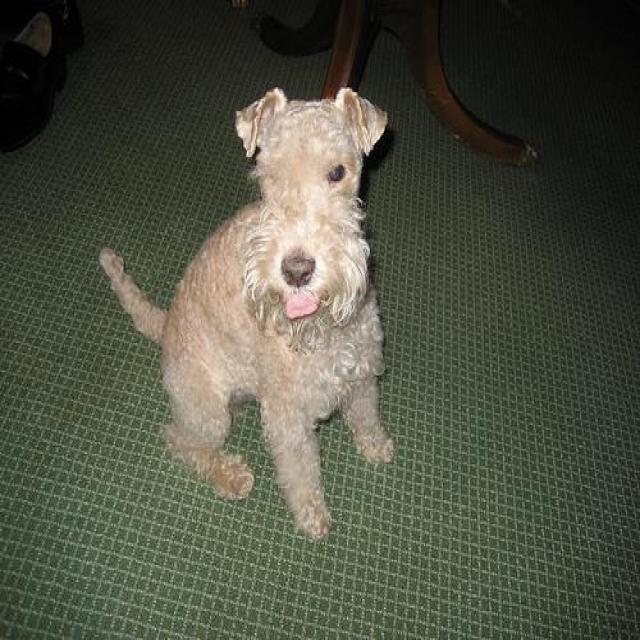happy: (64, 57, 430, 549)
